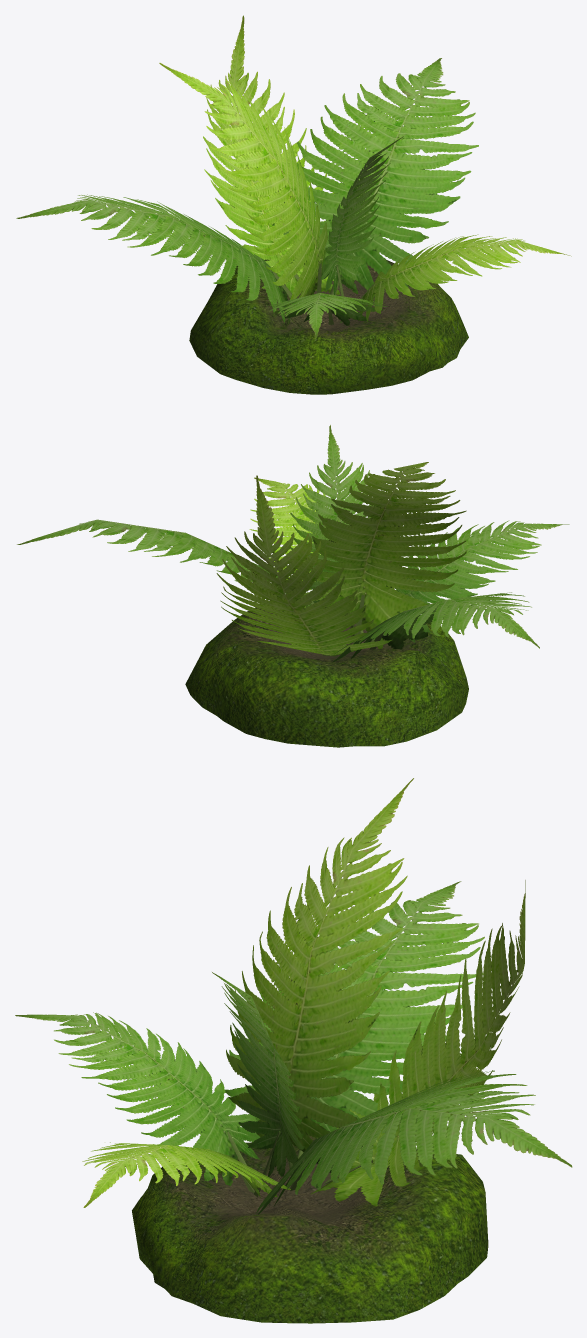
File: plant_fern.fbx
3 renders of one model, top to bottom at view 1: azimuth 30°, elevation 25°; view 2: azimuth 150°, elevation 25°; view 3: azimuth 270°, elevation 25°, orthographic. The views are drawn at different scales.
Visible parts, largest first — view 1: leaves, moss; view 2: leaves, moss; view 3: leaves, moss.
Part boxes in pixels (left/top/right/bottom): leaves: left=16, top=15, right=571, bottom=338; moss: left=189, top=259, right=468, bottom=394; leaves: left=17, top=425, right=569, bottom=662; moss: left=185, top=607, right=468, bottom=747; leaves: left=15, top=778, right=572, bottom=1214; moss: left=132, top=1135, right=488, bottom=1323.
Size of the model in its own units: 1.82 by 1.04 by 1.38.
